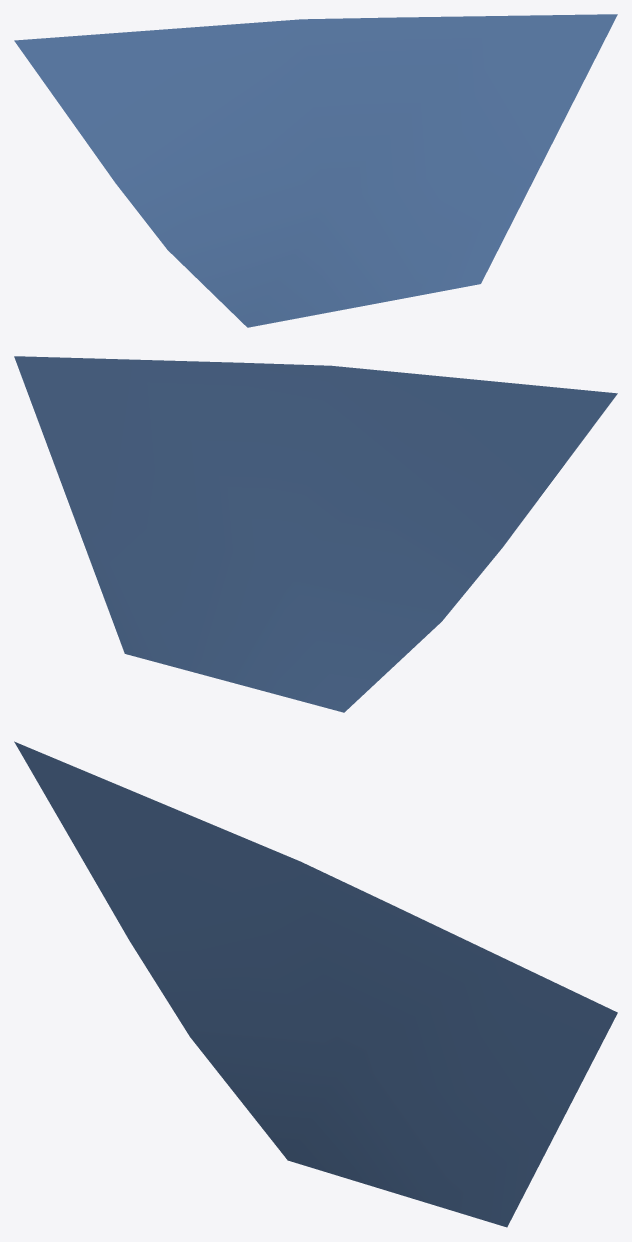
File: Body.glb
The picture shows the model from 3 angles, top to bottom: view 1: azimuth 30°, elevation 25°; view 2: azimuth 150°, elevation 25°; view 3: azimuth 330°, elevation 25°; orthographic projection. The views are drawn at different scales.
Parts seen in each view (by area): view 1: Body; view 2: Body; view 3: Body.
Part boxes in pixels (x1,y1,x2,y2): Body: (14,14,617,327); Body: (14,356,617,712); Body: (14,741,617,1227).
Size of the model in its own units: 0.0046 by 0.00268 by 0.000318.
